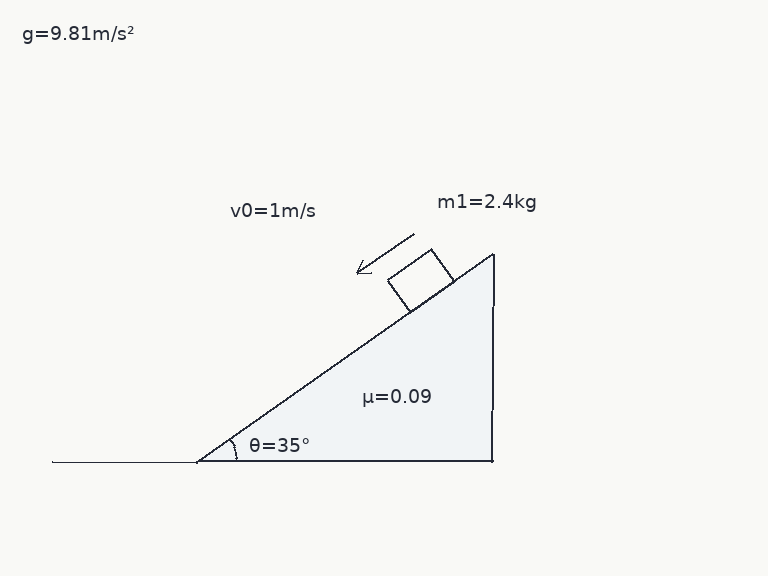block: (385, 247, 456, 314)
ramp: (195, 252, 495, 463)
